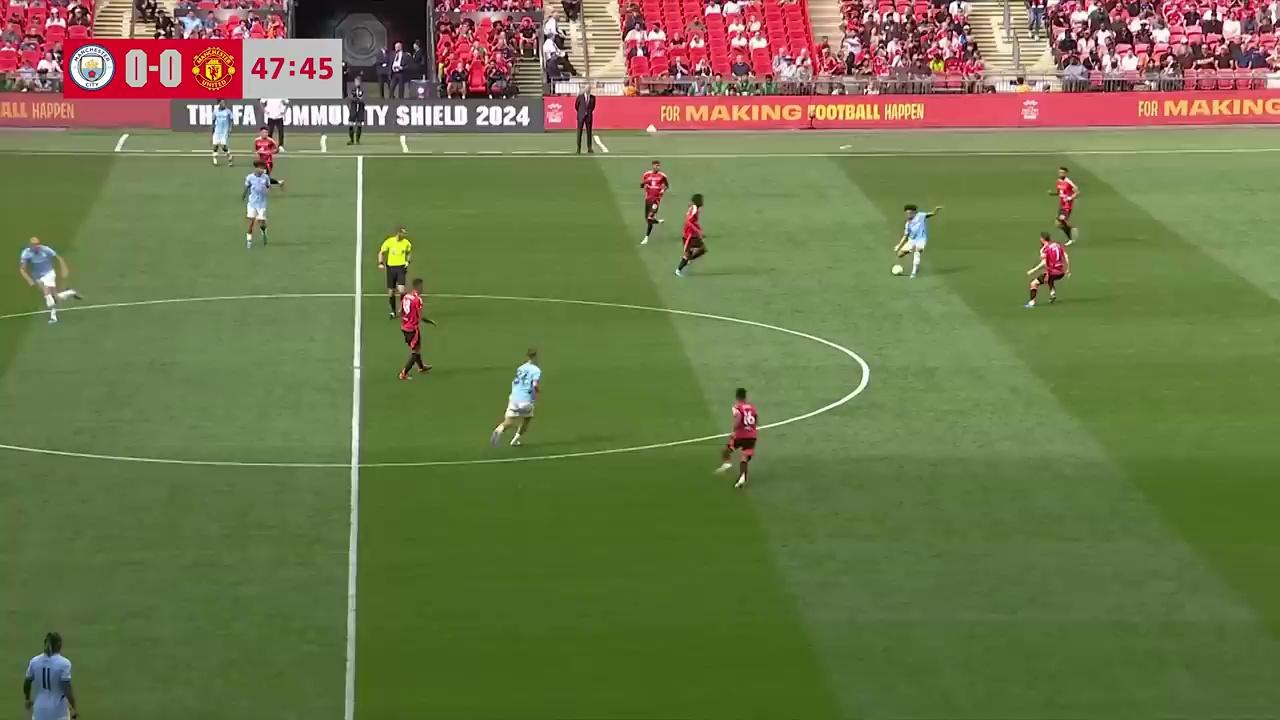ball: (891, 261, 903, 276)
player: (18, 235, 84, 331), (489, 348, 541, 448), (22, 630, 78, 720), (713, 387, 759, 488), (396, 278, 434, 380), (891, 203, 941, 279), (1024, 233, 1068, 307), (240, 162, 269, 249), (639, 159, 669, 243), (676, 196, 706, 277), (1050, 166, 1079, 243), (255, 129, 285, 194), (209, 107, 234, 167)
referee: (374, 225, 413, 326)
